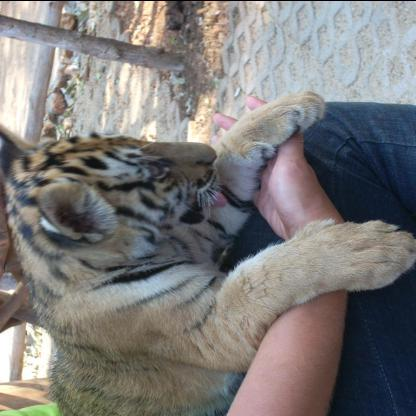tiger: (1, 121, 231, 281)
